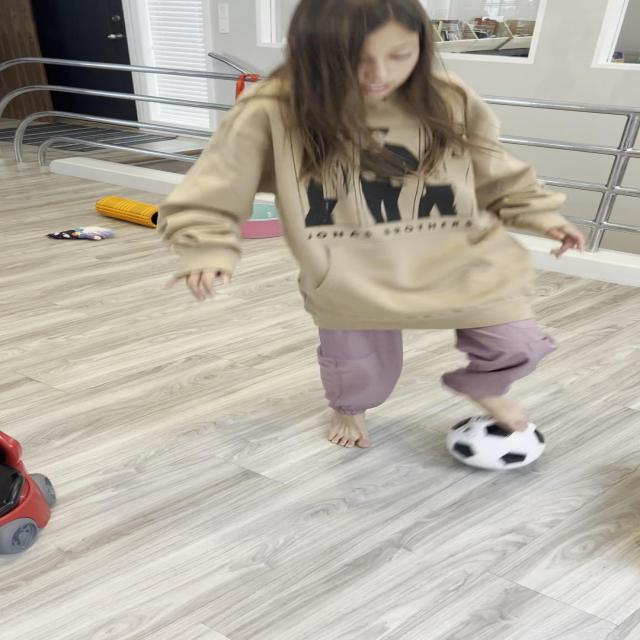Soccer Ball: (444, 414, 546, 472)
